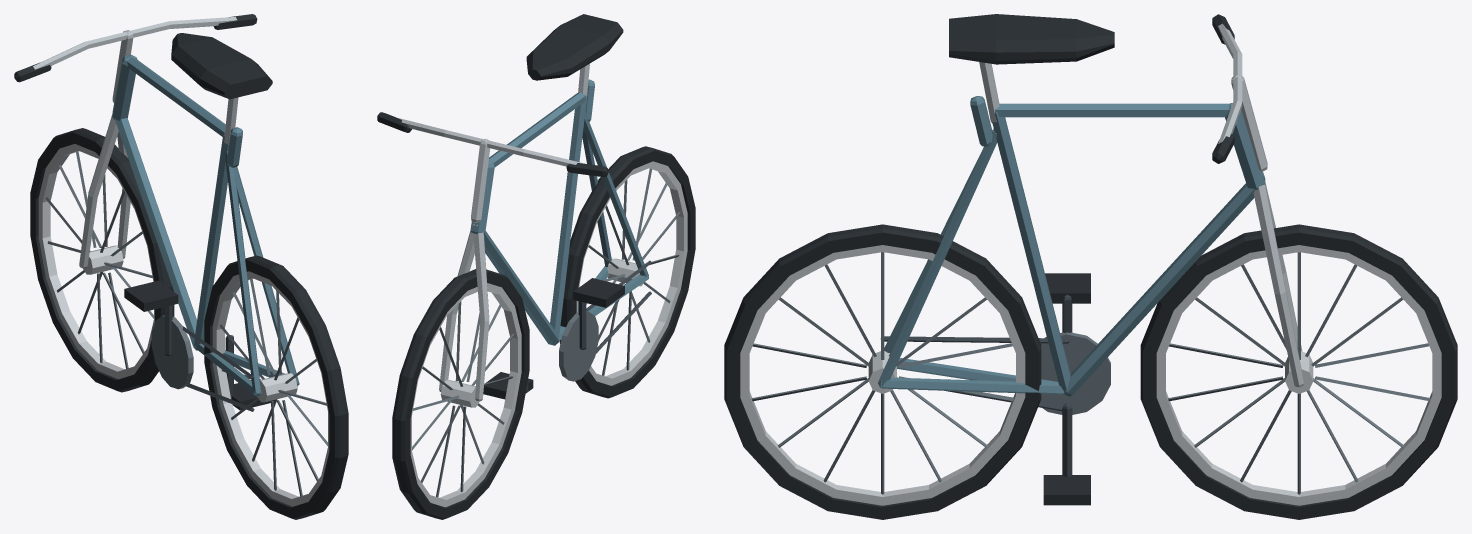
Rendered from SMALL_03.obj.
The picture shows the model from 3 angles, left to right: view 1: azimuth 30°, elevation 25°; view 2: azimuth 150°, elevation 25°; view 3: azimuth 270°, elevation 25°; orthographic projection. The views are drawn at different scales.
Visible parts, largest first — view 1: wheel_R, wheel_F, frame, saddle, seatstays, fork, chainring, pedals, handlebar, chainstays, grips, chain (+3 smaller); view 2: wheel_F, wheel_R, frame, saddle, fork, seatstays, chainring, pedals, handlebar, stem, grips, chainstays (+2 smaller); view 3: wheel_F, wheel_R, frame, saddle, seatstays, chainstays, fork, chainring, pedals, handlebar, crank, chain (+1 smaller).
Part boxes in pixels (bbox=[...]): wheel_R: bbox=[204, 255, 348, 519]; wheel_F: bbox=[30, 128, 174, 392]; frame: bbox=[112, 54, 242, 350]; saddle: bbox=[171, 33, 272, 99]; seatstays: bbox=[225, 151, 298, 394]; fork: bbox=[79, 113, 130, 268]; chainring: bbox=[151, 315, 193, 389]; pedals: bbox=[124, 280, 274, 410]; handlebar: bbox=[33, 17, 236, 69]; chainstays: bbox=[196, 344, 299, 396]; grips: bbox=[14, 14, 257, 82]; chain: bbox=[182, 326, 254, 411]; wheel_F: bbox=[392, 269, 529, 519]; wheel_R: bbox=[559, 146, 695, 398]; frame: bbox=[470, 79, 594, 345]; saddle: bbox=[526, 14, 623, 80]; fork: bbox=[439, 223, 489, 401]; seatstays: bbox=[582, 112, 648, 277]; chainring: bbox=[559, 311, 598, 381]; pedals: bbox=[483, 278, 624, 399]; handlebar: bbox=[396, 117, 585, 166]; stem: bbox=[471, 139, 490, 223]; grips: bbox=[377, 112, 608, 177]; chainstays: bbox=[559, 266, 648, 340]; wheel_F: bbox=[1140, 224, 1457, 519]; wheel_R: bbox=[724, 224, 1041, 519]; frame: bbox=[970, 96, 1265, 396]; saddle: bbox=[949, 14, 1114, 64]; seatstays: bbox=[878, 128, 997, 385]; chainstays: bbox=[878, 358, 1064, 394]; fork: bbox=[1253, 172, 1303, 387]; chainring: bbox=[1040, 332, 1110, 414]; pedals: bbox=[1043, 273, 1090, 505]; handlebar: bbox=[1218, 23, 1242, 143]; crank: bbox=[1062, 294, 1072, 477]; chain: bbox=[880, 336, 1069, 411].
Size of the model in its own units: 0.705 by 1.14 by 1.55.
